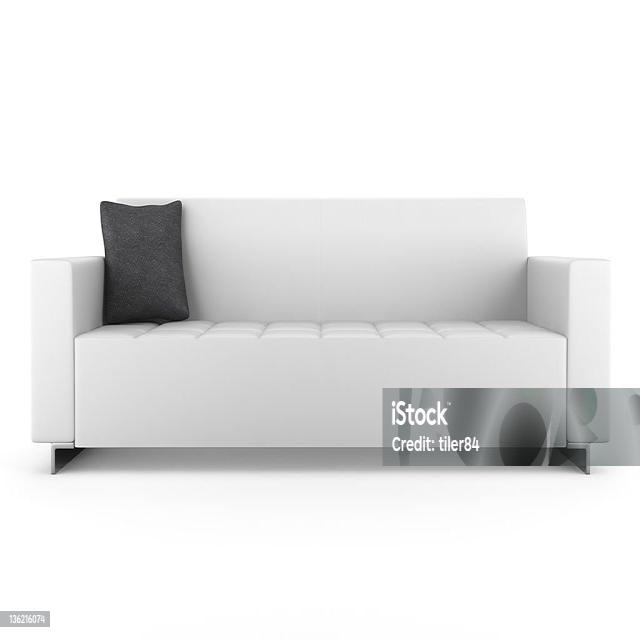back_cushion: (101, 199, 526, 322)
left_arm: (528, 259, 609, 443)
legs: (550, 444, 590, 474), (51, 443, 81, 474)
right_arm: (32, 257, 103, 442)
seat_cushion: (75, 321, 566, 464)
stallion-sofa1: (32, 199, 621, 469)
